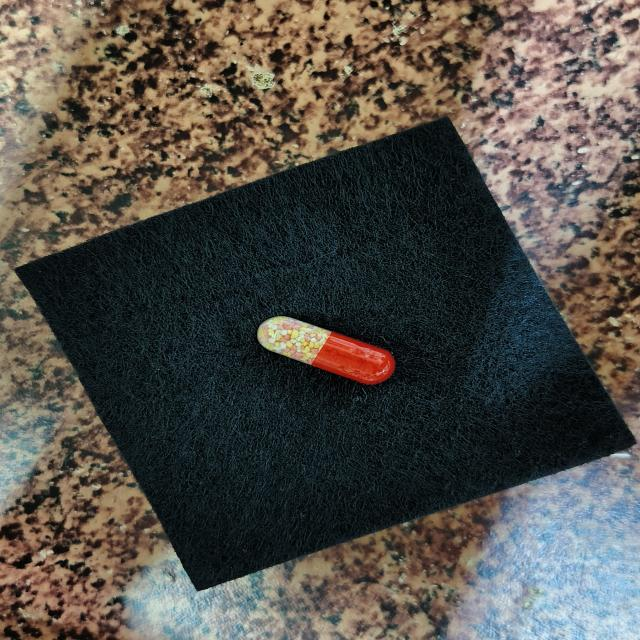Intact Capsule: (257, 316, 395, 384)
